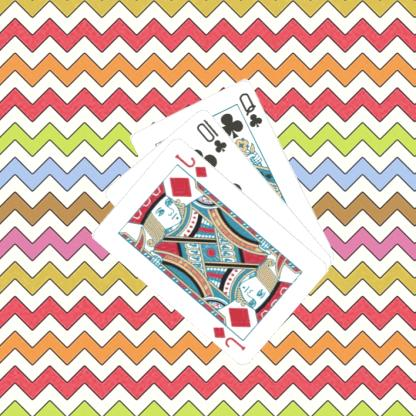10C: (195, 116, 230, 154)
JD: (212, 323, 249, 352), (174, 150, 211, 178)
QC: (238, 89, 266, 129)
